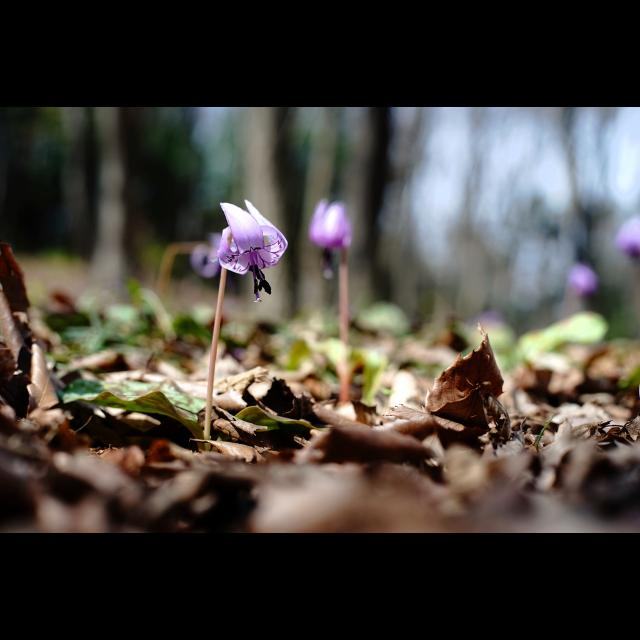Flower: (210, 200, 286, 292), (306, 201, 354, 255)
